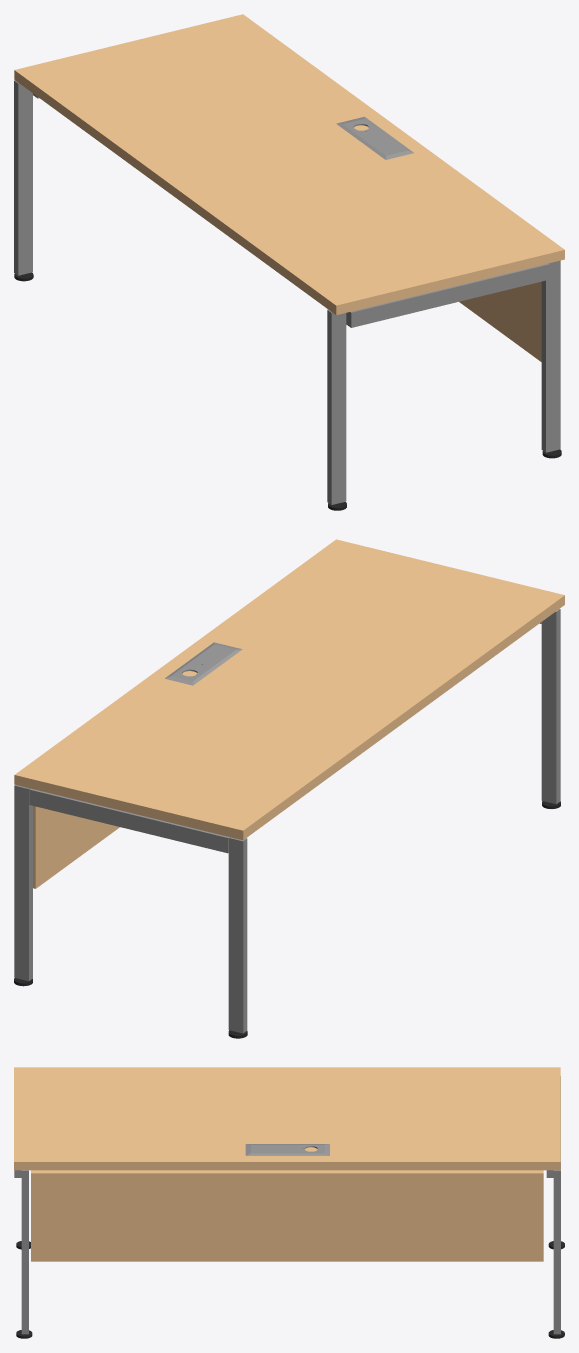
The model's file is desk_recalculate.fbx.
3 views of the same model, one above another, from view 1: azimuth 30°, elevation 25°; view 2: azimuth 150°, elevation 25°; view 3: azimuth 270°, elevation 25° (orthographic). The views are drawn at different scales.
Parts seen in each view (by area): view 1: up, leg_right_rear, leg_right_front, leg_left_rear, right_bar, front, plug; view 2: up, leg_left_rear, front, leg_right_rear, leg_left_front, left_bar, plug; view 3: up, front, leg_left_front, leg_right_front, plug.
Boxes of the visible parts, x1,y1,x2,y2 form: up: (14,14,564,315); leg_right_rear: (327,309,346,504); leg_right_front: (541,260,560,452); leg_left_rear: (14,80,32,275); right_bar: (346,263,549,327); front: (459,281,541,361); plug: (336,116,413,159); up: (14,539,564,840); leg_left_rear: (228,837,247,1033); front: (33,806,119,888); leg_right_rear: (541,609,560,804); leg_left_front: (14,785,32,981); left_bar: (29,788,228,853); plug: (165,642,242,685); up: (14,1067,560,1170); front: (31,1170,543,1261); leg_left_front: (553,1165,560,1334); leg_right_front: (21,1170,28,1334); plug: (245,1144,329,1155).
Bounding box in the file's own units: 13.33 × 11.5 × 32.39.
